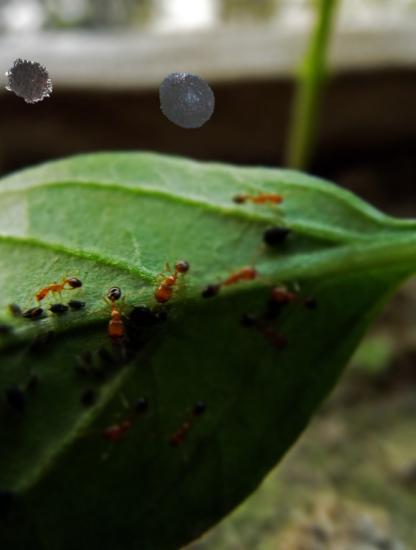Avocado: (154, 70, 216, 132)
Rambutan: (3, 56, 56, 109)
